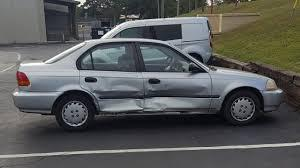RunningBoard-Dent: (146, 108, 210, 116), (97, 111, 146, 118)
doorouter-dent: (144, 69, 212, 110), (79, 70, 144, 110)
